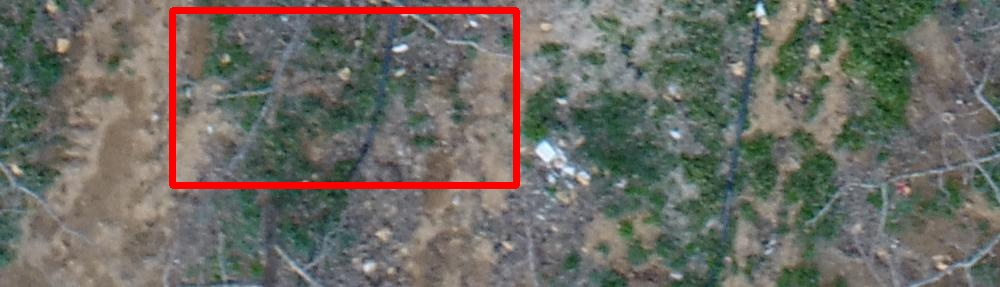apple: (172, 10, 516, 185)
